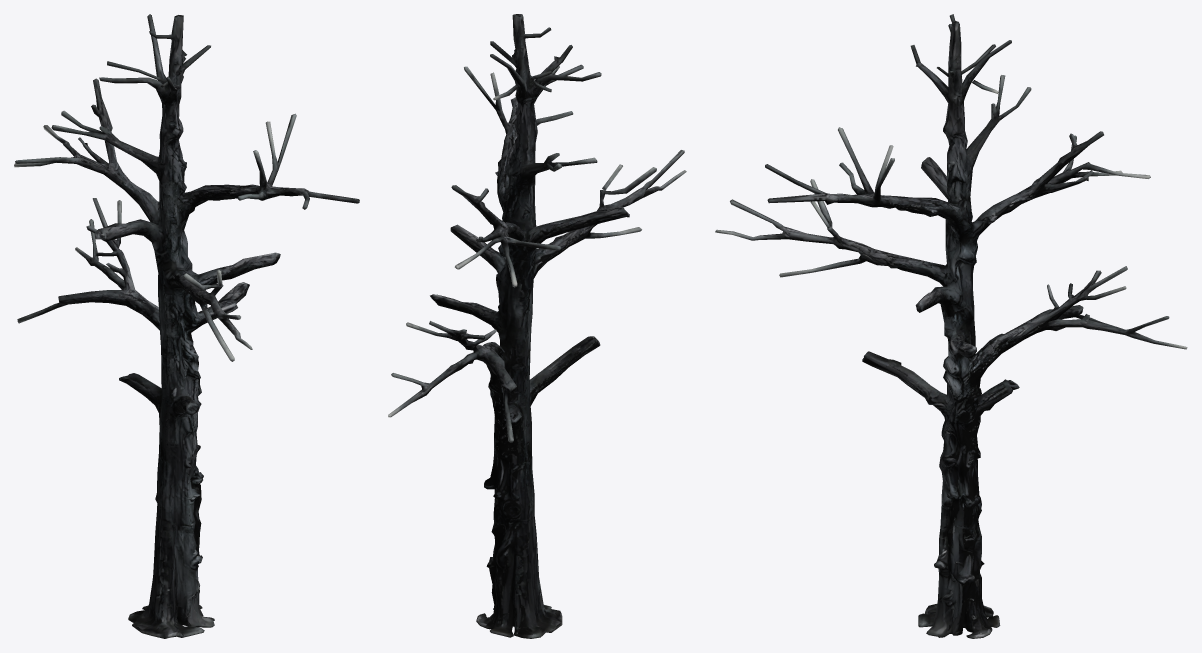
The model's file is dead_tree_01.fbx.
3 renders of one model, left to right at view 1: azimuth 30°, elevation 25°; view 2: azimuth 150°, elevation 25°; view 3: azimuth 270°, elevation 25°, orthographic.
Parts seen in each view (by area): view 1: tripo_node_12f13270; view 2: tripo_node_12f13270; view 3: tripo_node_12f13270.
Boxes of the visible parts, left/top/right/bottom form: tripo_node_12f13270: left=14, top=14, right=359, bottom=638; tripo_node_12f13270: left=388, top=14, right=686, bottom=638; tripo_node_12f13270: left=715, top=14, right=1187, bottom=638.
Bounding box in the file's own units: 0.3307 × 1 × 0.7104.
1 material, 1 textured.
